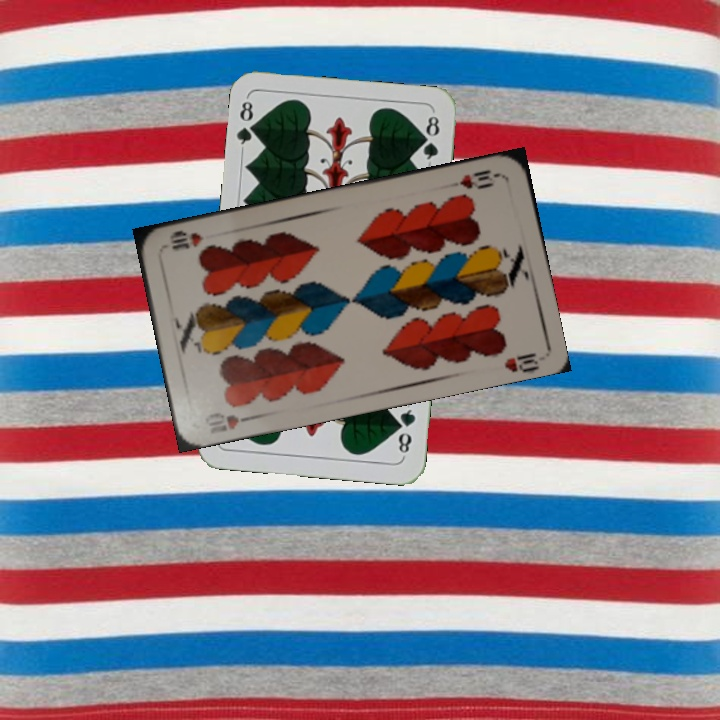G8: (233, 94, 261, 154), (393, 400, 418, 459)
H10: (201, 408, 258, 437), (456, 165, 503, 192)
